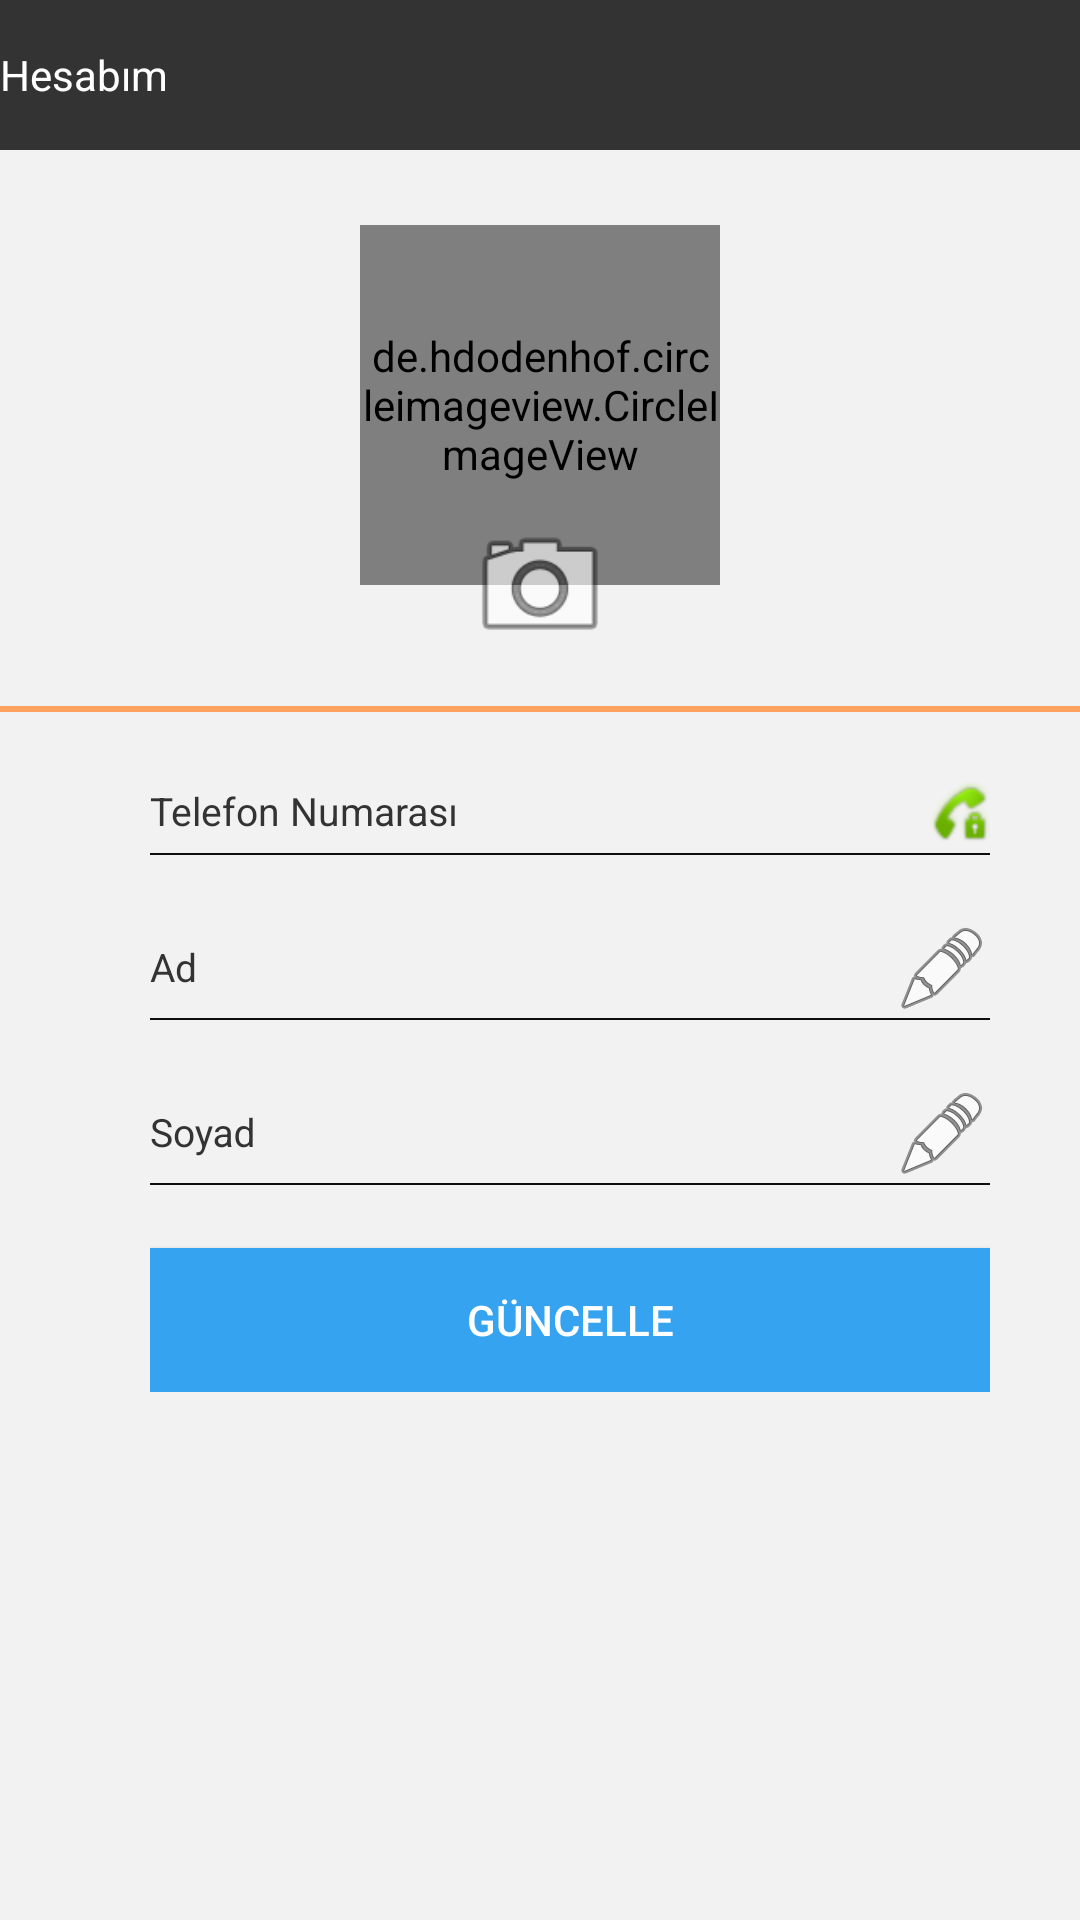

Screen size 1080 x 1920. Icon name, then its center in pixels as [x,y]:
camera: [540,586]
